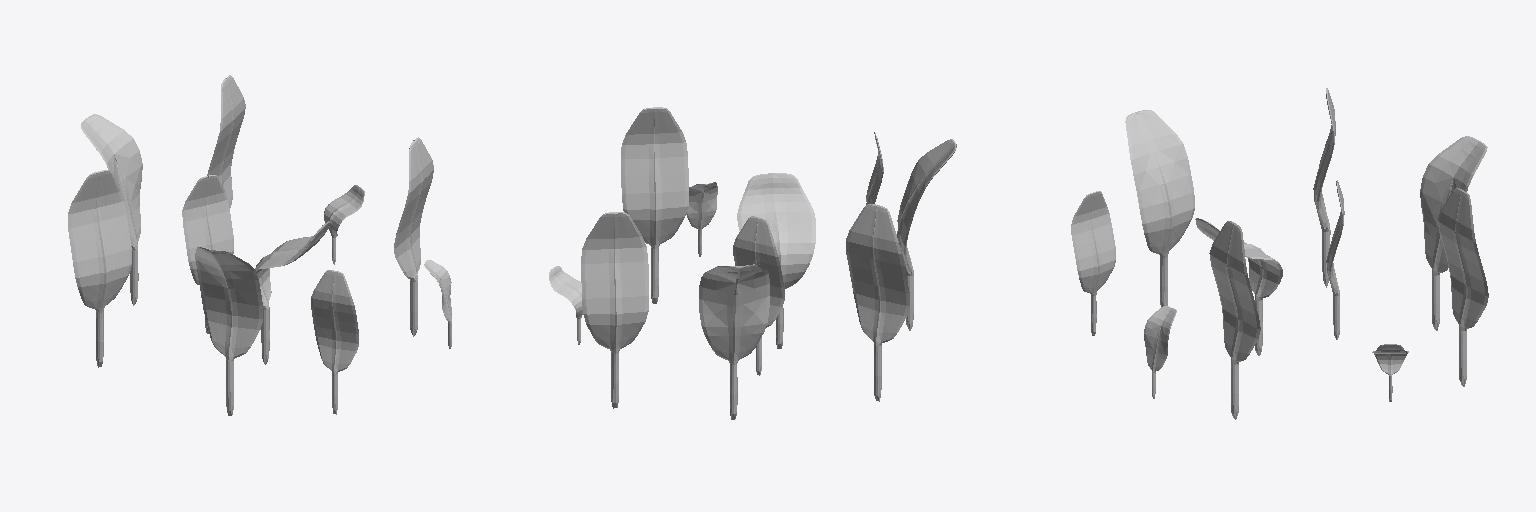
The model's file is AquelPlant1.obj.
The picture shows the model from 3 angles: view 1: azimuth 30°, elevation 25°; view 2: azimuth 150°, elevation 25°; view 3: azimuth 270°, elevation 25°; orthographic projection.
Visible parts, largest first — view 1: Cube.065_Cube.068, Cube.056_Cube.059, Cube.058_Cube.061, Cube.062_Cube.065, Cube.059_Cube.062, Cube.064_Cube.067, Cube.060_Cube.063, Cube.061_Cube.064, Cube.051_Cube.001, Cube.054_Cube.025; view 2: Cube.060_Cube.063, Cube.059_Cube.062, Cube.065_Cube.068, Cube.062_Cube.065, Cube.061_Cube.064, Cube.064_Cube.067, Cube.056_Cube.059, Cube.054_Cube.025, Cube.051_Cube.001, Cube.058_Cube.061; view 3: Cube.056_Cube.059, Cube.059_Cube.062, Cube.060_Cube.063, Cube.062_Cube.065, Cube.058_Cube.061, Cube.061_Cube.064, Cube.054_Cube.025, Cube.065_Cube.068, Cube.064_Cube.067, Cube.051_Cube.001.
Part boxes in pixels (bbox=[...]): Cube.065_Cube.068: bbox=[68, 170, 131, 367]; Cube.056_Cube.059: bbox=[195, 247, 262, 415]; Cube.058_Cube.061: bbox=[311, 270, 358, 414]; Cube.062_Cube.065: bbox=[81, 114, 142, 305]; Cube.059_Cube.062: bbox=[394, 137, 433, 336]; Cube.064_Cube.067: bbox=[182, 175, 233, 333]; Cube.060_Cube.063: bbox=[207, 75, 245, 207]; Cube.061_Cube.064: bbox=[255, 220, 330, 364]; Cube.051_Cube.001: bbox=[324, 185, 364, 264]; Cube.054_Cube.025: bbox=[424, 260, 451, 348]; Cube.060_Cube.063: bbox=[581, 212, 648, 408]; Cube.059_Cube.062: bbox=[621, 107, 688, 303]; Cube.065_Cube.068: bbox=[846, 204, 909, 401]; Cube.062_Cube.065: bbox=[699, 264, 769, 419]; Cube.061_Cube.064: bbox=[737, 173, 815, 348]; Cube.064_Cube.067: bbox=[733, 216, 784, 375]; Cube.056_Cube.059: bbox=[897, 139, 956, 330]; Cube.054_Cube.025: bbox=[686, 182, 717, 256]; Cube.051_Cube.001: bbox=[549, 266, 582, 344]; Cube.058_Cube.061: bbox=[866, 132, 883, 204]; Cube.056_Cube.059: bbox=[1125, 110, 1194, 306]; Cube.059_Cube.062: bbox=[1209, 221, 1260, 419]; Cube.060_Cube.063: bbox=[1438, 188, 1488, 386]; Cube.062_Cube.065: bbox=[1420, 136, 1487, 330]; Cube.058_Cube.061: bbox=[1071, 191, 1115, 335]; Cube.061_Cube.064: bbox=[1195, 218, 1282, 355]; Cube.054_Cube.025: bbox=[1144, 306, 1176, 398]; Cube.065_Cube.068: bbox=[1313, 88, 1335, 287]; Cube.064_Cube.067: bbox=[1326, 180, 1344, 339]; Cube.051_Cube.001: bbox=[1372, 344, 1408, 401].
Size of the model in its own units: 0.6213 by 0.3672 by 0.6925.